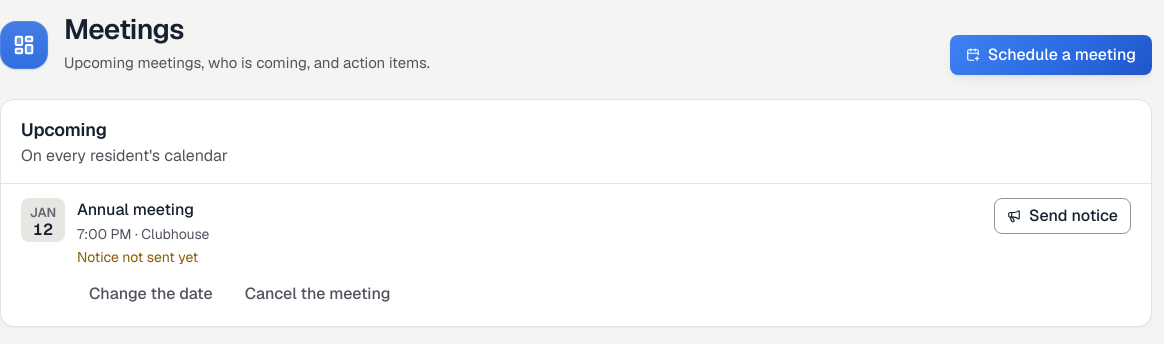
Test: the meetings page › asks first, with the meeting's title and date, and sends nothing until told to
This screenshot has width=1164, height=344.
What coordinates should you click on to do the following:
click the button "Send notice"
I would click on:
 (1062, 216)
Its box is 994,198 -> 1131,234.
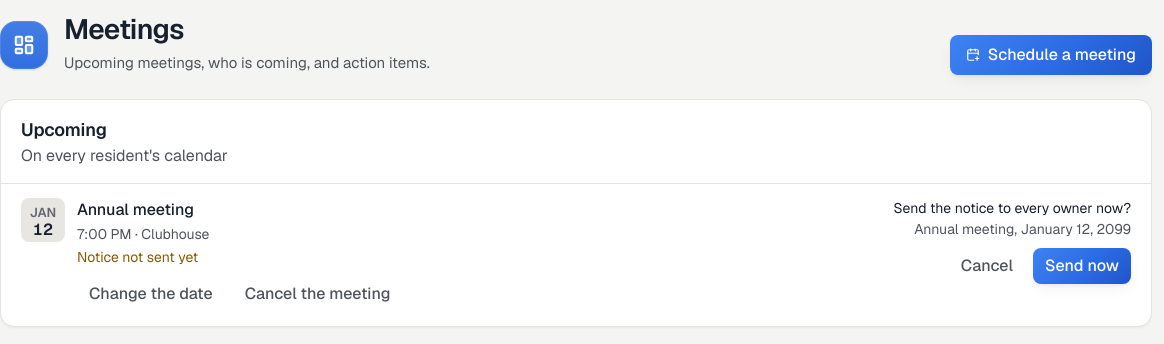
Check: the text "Send the notice to every owner now?" is shown, box 893,199 -> 1131,217
Check: the text "Annual meeting, January 12, 2099" is shown, box 893,219 -> 1131,240
What coordinates should you click on to do the following:
click the button "Cancel"
I would click on:
 (987, 266)
Its box is 949,248 -> 1025,284.
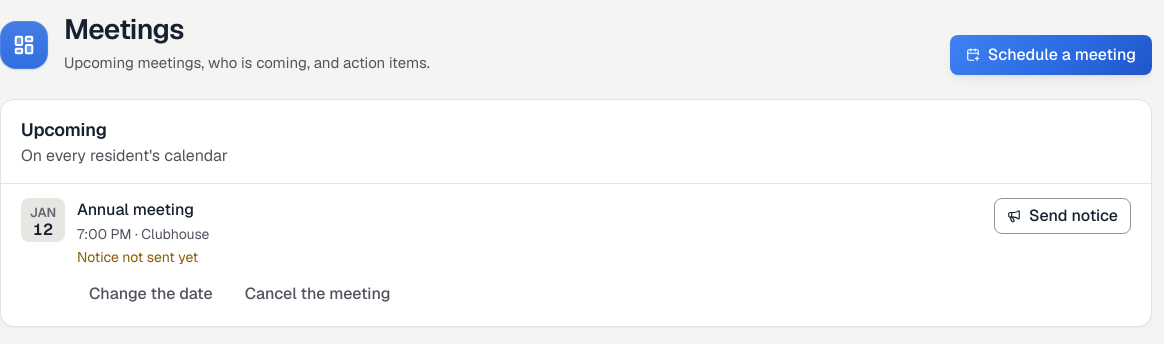
Check: the button "Send notice" is enabled, box 994,198 -> 1131,234
